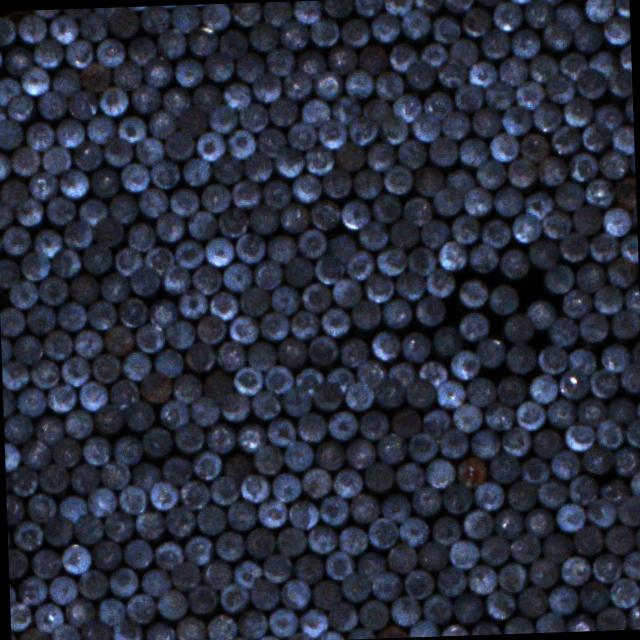tool: (215, 440, 261, 486), (200, 364, 234, 400), (412, 162, 446, 196), (64, 595, 98, 628), (454, 454, 488, 487), (342, 378, 376, 411), (420, 87, 454, 120), (386, 216, 420, 249), (46, 65, 80, 98), (368, 11, 402, 44), (30, 600, 65, 632), (483, 588, 518, 620), (187, 23, 219, 58), (276, 335, 309, 368), (28, 546, 62, 578), (59, 541, 91, 575), (420, 592, 452, 626), (452, 590, 484, 624), (186, 582, 218, 616), (120, 536, 152, 570), (270, 468, 302, 502), (486, 450, 520, 482), (602, 522, 636, 554), (531, 426, 565, 458), (436, 56, 468, 90), (540, 18, 572, 52), (139, 370, 171, 404), (362, 270, 394, 304), (97, 270, 131, 302), (294, 46, 328, 78), (11, 518, 44, 550), (389, 594, 422, 626), (150, 538, 183, 570), (103, 509, 135, 542), (195, 502, 228, 534), (441, 482, 474, 514), (300, 465, 332, 498), (406, 430, 438, 463), (468, 426, 501, 458), (358, 406, 390, 439), (389, 406, 422, 438), (548, 448, 580, 481), (474, 335, 506, 368), (479, 216, 512, 248), (570, 203, 602, 236), (576, 66, 608, 99), (41, 328, 74, 360), (31, 225, 63, 258), (153, 346, 186, 378), (214, 339, 247, 371), (318, 304, 351, 336), (381, 296, 414, 328), (143, 243, 175, 276), (202, 234, 235, 266), (217, 206, 250, 238), (339, 196, 372, 228), (396, 136, 428, 169), (387, 39, 420, 71), (2, 44, 35, 76), (306, 15, 339, 47), (338, 15, 370, 48), (508, 532, 542, 563), (377, 491, 411, 522), (484, 398, 515, 432), (465, 374, 496, 408), (66, 271, 100, 302), (272, 146, 306, 177), (110, 60, 144, 91), (90, 538, 122, 570), (42, 514, 74, 546), (72, 512, 104, 544), (38, 462, 70, 494), (92, 404, 124, 436), (236, 608, 268, 640), (358, 598, 390, 630), (218, 580, 250, 612), (249, 579, 281, 611), (402, 567, 434, 599), (434, 564, 466, 596), (494, 560, 526, 592), (292, 551, 324, 583), (324, 548, 356, 580), (386, 541, 418, 573), (182, 532, 214, 564), (461, 508, 493, 540), (492, 506, 524, 538), (286, 496, 318, 528), (410, 483, 442, 515), (506, 478, 538, 510), (394, 460, 426, 492), (344, 436, 376, 468), (110, 434, 142, 466), (140, 424, 172, 456), (452, 400, 484, 432), (374, 376, 406, 408), (404, 377, 436, 409), (559, 554, 591, 586), (575, 394, 607, 426), (588, 366, 620, 398), (598, 341, 630, 373), (595, 148, 627, 180), (550, 123, 582, 155), (405, 58, 437, 90), (459, 4, 491, 36), (491, 0, 523, 32), (14, 384, 46, 416), (46, 380, 78, 412), (59, 354, 91, 386), (338, 334, 370, 366), (56, 300, 88, 332), (86, 298, 118, 330), (116, 294, 148, 326), (159, 262, 191, 294), (252, 258, 284, 290), (314, 252, 346, 284), (371, 190, 403, 222), (106, 191, 138, 223), (118, 160, 150, 192), (132, 134, 164, 166), (346, 114, 378, 146), (22, 119, 54, 151), (53, 116, 85, 148), (206, 102, 238, 134), (299, 95, 331, 127), (128, 82, 160, 114), (219, 78, 251, 110), (280, 68, 312, 100), (142, 55, 174, 87), (326, 42, 358, 74), (356, 42, 388, 74), (139, 567, 172, 598), (244, 526, 275, 559), (225, 499, 258, 530), (27, 357, 60, 388), (25, 303, 58, 334), (78, 378, 109, 411), (448, 348, 481, 379), (184, 208, 217, 239), (78, 193, 109, 226), (56, 168, 89, 199), (210, 152, 243, 183), (159, 84, 192, 115), (154, 27, 187, 58), (106, 7, 139, 38), (518, 584, 548, 618), (472, 480, 506, 510), (579, 444, 613, 474), (540, 262, 574, 292), (526, 51, 560, 81), (88, 352, 122, 382), (277, 201, 311, 231), (364, 140, 398, 170), (16, 573, 48, 604), (78, 568, 109, 600), (26, 491, 58, 522), (49, 435, 81, 466), (80, 433, 112, 464), (156, 588, 188, 619), (202, 557, 234, 588), (260, 552, 292, 583), (448, 538, 480, 569), (275, 524, 307, 555), (398, 514, 429, 546), (134, 508, 166, 539), (318, 492, 349, 524), (362, 461, 394, 492), (190, 449, 222, 480), (252, 444, 284, 475), (313, 439, 345, 470), (500, 425, 532, 456), (172, 421, 204, 452), (203, 422, 235, 453), (264, 415, 296, 446), (514, 398, 545, 430), (249, 388, 281, 419), (434, 377, 466, 408), (528, 557, 560, 588), (591, 550, 622, 582), (554, 501, 586, 532), (558, 366, 589, 398), (504, 342, 536, 373), (547, 314, 578, 346), (560, 286, 591, 318), (458, 309, 489, 341), (488, 283, 520, 314), (574, 260, 605, 292), (510, 210, 541, 242), (462, 184, 493, 216), (583, 176, 615, 207), (518, 130, 550, 161), (500, 104, 532, 135), (401, 7, 432, 39), (10, 333, 42, 364), (172, 371, 203, 403), (184, 340, 216, 371), (308, 334, 339, 366), (401, 330, 432, 362), (103, 323, 134, 355), (288, 307, 320, 338), (414, 294, 446, 325), (176, 288, 208, 319), (208, 289, 240, 320), (190, 263, 222, 294), (344, 248, 376, 279), (437, 238, 468, 270), (264, 232, 296, 263), (248, 203, 280, 234), (12, 194, 44, 225), (198, 181, 230, 212), (351, 166, 383, 197), (382, 163, 414, 194), (226, 127, 258, 158), (410, 110, 442, 141), (331, 94, 362, 126), (96, 85, 128, 116), (251, 70, 282, 102), (342, 66, 373, 98), (374, 69, 406, 100), (217, 26, 249, 57), (47, 13, 78, 45), (32, 412, 65, 442), (64, 406, 94, 439), (212, 530, 245, 560), (436, 428, 469, 458), (324, 409, 357, 439), (469, 106, 502, 136), (122, 220, 155, 250), (401, 194, 434, 224), (98, 459, 132, 488), (3, 412, 34, 443), (125, 592, 156, 623), (466, 563, 497, 594), (234, 421, 265, 452), (558, 230, 589, 261), (449, 212, 480, 243), (488, 131, 519, 162), (453, 82, 484, 113), (326, 229, 357, 260), (378, 113, 409, 144), (84, 111, 115, 142), (146, 109, 177, 140), (108, 566, 138, 598), (56, 492, 88, 522), (68, 462, 100, 492), (19, 438, 51, 468), (268, 605, 298, 637), (296, 606, 328, 636), (372, 570, 404, 600), (172, 560, 202, 592), (418, 539, 448, 571), (338, 522, 368, 554), (429, 514, 461, 544), (348, 492, 378, 524), (239, 472, 271, 502), (160, 454, 192, 484), (376, 432, 406, 464), (124, 400, 156, 430), (188, 396, 220, 426), (218, 392, 250, 422), (280, 385, 312, 415), (578, 578, 608, 610), (542, 532, 574, 562), (538, 477, 568, 509), (544, 397, 576, 427), (606, 394, 636, 426), (502, 311, 534, 341), (526, 297, 556, 329), (527, 236, 559, 266), (540, 208, 572, 238), (552, 180, 584, 210), (475, 158, 507, 188), (532, 100, 562, 132), (482, 78, 512, 110), (544, 72, 576, 102), (588, 46, 618, 78), (572, 19, 602, 51), (262, 364, 294, 394), (370, 328, 400, 360), (228, 314, 260, 344), (258, 310, 290, 340), (349, 298, 381, 328), (147, 294, 177, 326), (331, 277, 363, 307), (394, 268, 424, 300), (128, 264, 160, 294), (282, 256, 314, 286), (376, 244, 406, 276), (406, 244, 436, 276), (50, 248, 82, 278), (310, 198, 340, 230), (168, 186, 200, 216), (320, 168, 352, 198), (242, 152, 274, 182), (8, 144, 38, 176), (70, 140, 102, 170), (194, 130, 226, 160), (255, 126, 287, 156), (316, 117, 346, 149), (114, 114, 146, 144), (176, 106, 208, 136), (267, 96, 299, 126), (392, 91, 422, 123), (4, 92, 36, 122), (312, 68, 342, 100), (232, 50, 264, 80), (32, 38, 64, 68), (611, 443, 640, 476), (447, 37, 480, 66), (42, 194, 75, 223), (279, 578, 310, 608), (310, 579, 340, 610), (165, 506, 196, 536), (519, 454, 550, 484), (311, 380, 342, 410), (608, 576, 638, 607), (523, 506, 554, 536), (528, 372, 558, 403), (537, 342, 567, 373), (592, 283, 623, 313), (457, 276, 488, 306), (498, 246, 528, 277), (506, 156, 536, 187), (581, 121, 611, 152), (562, 95, 592, 126), (20, 250, 51, 280), (7, 278, 38, 308), (293, 364, 324, 394), (122, 350, 153, 380), (246, 339, 276, 370), (432, 323, 463, 353), (134, 322, 165, 352), (194, 314, 225, 344), (239, 285, 270, 315), (221, 262, 252, 292), (174, 237, 204, 268), (296, 228, 327, 258), (91, 216, 122, 246), (138, 186, 168, 217), (101, 136, 132, 166), (286, 120, 317, 150), (190, 82, 221, 112), (172, 56, 203, 86), (277, 19, 307, 50), (15, 12, 46, 42), (444, 167, 476, 196), (508, 27, 540, 56), (290, 173, 322, 202), (28, 168, 57, 200), (139, 5, 171, 34), (0, 175, 29, 207), (197, 3, 230, 31), (48, 574, 78, 604), (87, 486, 117, 516), (8, 466, 38, 496), (328, 602, 358, 632), (232, 558, 262, 588), (480, 534, 510, 564), (256, 497, 286, 527), (148, 480, 178, 510), (332, 467, 362, 497), (130, 460, 160, 490), (422, 406, 452, 436), (158, 398, 188, 428), (496, 374, 526, 404), (548, 584, 578, 614), (567, 474, 597, 504), (564, 421, 594, 451), (566, 346, 596, 376), (578, 311, 608, 341), (610, 308, 640, 338), (605, 256, 635, 286), (468, 242, 498, 272), (588, 231, 618, 261), (492, 184, 522, 214), (537, 155, 567, 185), (567, 152, 597, 182), (458, 136, 488, 166), (498, 55, 528, 85), (559, 50, 589, 80), (600, 14, 630, 44), (37, 274, 67, 304), (418, 356, 448, 386), (74, 327, 104, 357), (270, 284, 300, 314), (300, 281, 330, 311), (424, 266, 454, 296), (358, 220, 388, 250), (420, 218, 450, 248), (62, 218, 92, 248), (154, 210, 184, 240), (434, 186, 464, 216), (260, 178, 290, 208), (88, 166, 118, 196), (39, 144, 69, 174), (237, 102, 267, 132), (362, 96, 392, 126), (36, 88, 66, 118), (18, 66, 48, 96), (78, 62, 108, 92), (94, 36, 124, 66), (248, 20, 278, 50), (77, 12, 107, 42), (96, 595, 125, 626), (341, 572, 372, 601), (296, 410, 325, 441), (430, 13, 461, 42), (553, 0, 584, 29), (0, 224, 31, 253), (81, 244, 112, 273), (205, 612, 237, 640), (572, 526, 604, 554), (597, 476, 629, 504), (232, 366, 264, 394), (355, 359, 387, 387), (332, 142, 364, 170), (356, 549, 386, 578), (118, 483, 147, 513), (178, 479, 208, 508), (208, 475, 238, 504), (586, 498, 615, 528), (602, 207, 632, 236), (523, 189, 553, 218), (428, 134, 457, 164), (514, 79, 544, 108), (108, 378, 138, 407), (166, 319, 196, 348), (235, 232, 264, 262), (150, 159, 180, 188), (304, 145, 334, 174), (163, 131, 193, 160), (264, 46, 294, 75), (439, 110, 470, 138), (467, 58, 498, 86), (174, 613, 206, 640), (368, 518, 397, 547), (67, 90, 96, 119), (307, 524, 337, 552), (426, 457, 456, 485), (285, 441, 313, 471), (594, 418, 622, 448), (593, 101, 623, 129), (418, 40, 448, 68), (480, 28, 508, 58), (324, 362, 354, 390), (386, 358, 416, 386), (114, 244, 142, 274), (231, 178, 261, 206), (64, 38, 92, 68), (125, 34, 155, 62), (594, 604, 626, 630), (0, 304, 26, 336), (203, 52, 232, 80), (1, 360, 28, 390), (615, 495, 640, 527), (261, 1, 293, 26), (182, 156, 210, 184), (522, 0, 552, 26), (141, 618, 176, 640), (612, 175, 636, 207), (230, 2, 262, 26), (0, 118, 24, 150), (170, 4, 198, 31), (112, 616, 143, 640), (610, 123, 634, 154), (0, 74, 23, 106), (78, 618, 111, 640), (608, 66, 632, 96), (9, 599, 32, 630), (0, 255, 21, 288), (534, 610, 565, 632), (564, 610, 595, 632), (8, 547, 29, 579), (619, 361, 640, 393), (292, 0, 320, 23), (503, 614, 534, 634), (6, 492, 25, 524), (408, 618, 440, 637), (621, 417, 640, 449), (618, 231, 638, 261), (583, 0, 613, 20), (621, 548, 640, 579), (15, 624, 50, 640), (49, 622, 80, 640), (468, 619, 502, 635), (623, 282, 640, 313), (4, 440, 21, 470), (322, 0, 352, 17), (383, 0, 414, 15), (0, 16, 15, 46), (352, 0, 382, 15), (440, 622, 470, 636), (0, 199, 13, 230), (625, 603, 640, 629), (2, 386, 15, 416), (628, 467, 640, 499), (413, 0, 443, 12), (441, 0, 473, 11), (0, 148, 10, 179), (613, 0, 629, 18), (472, 0, 506, 6), (634, 523, 640, 553), (0, 99, 6, 128), (534, 0, 565, 3)
void: (516, 267, 542, 303)
